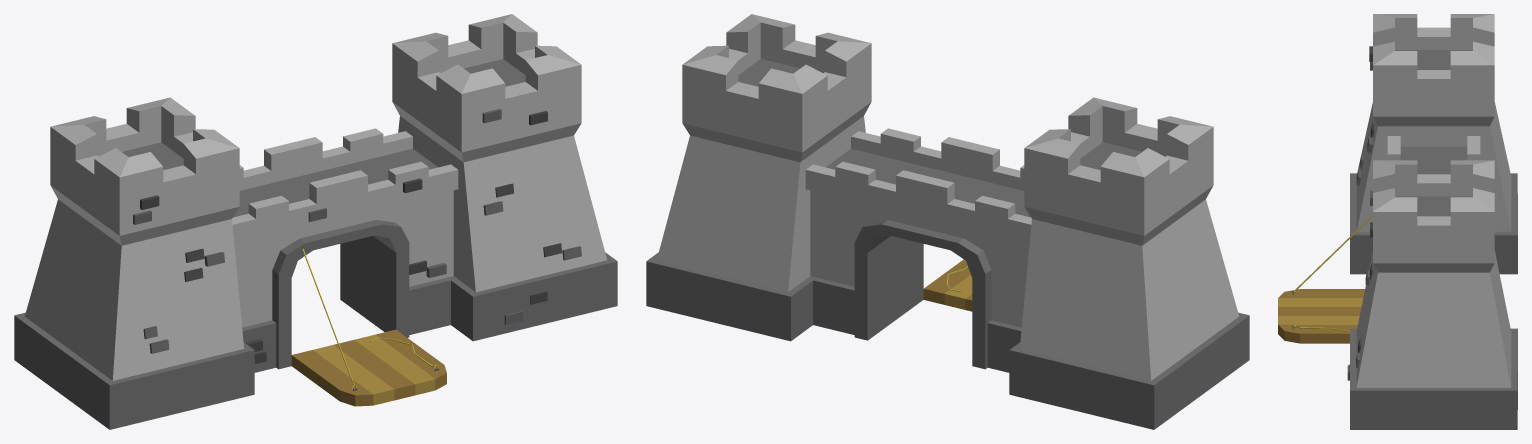
Rendered from Castle.fbx.
3 views of the same model, side by side, from view 1: azimuth 30°, elevation 25°; view 2: azimuth 150°, elevation 25°; view 3: azimuth 270°, elevation 25° (orthographic). The views are drawn at different scales.
Parts seen in each view (by area): view 1: Cube; view 2: Cube; view 3: Cube.
Part boxes in pixels (<box>): Cube: <box>14,14,617,429</box>; Cube: <box>646,14,1249,429</box>; Cube: <box>1278,14,1517,429</box>.
Size of the model in its own units: 10.76 by 4.92 by 5.01.
